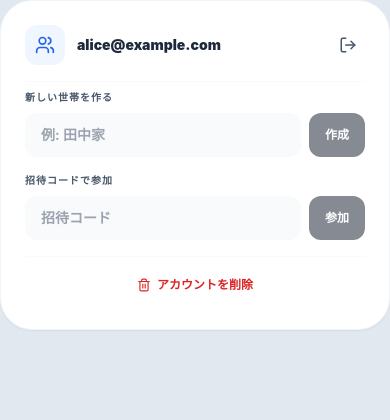
Test: AccountPanel (subscription paywall) › falls back to the paywall when a create attempt fails with SUBSCRIPTION_REQUIRED, even if the cached status looked active
The image size is (390, 420).
Type "テスト家族" into the field with placeholder "例: 田中家".
click(163, 135); type("テスト家族")  # box [25,113,301,157]
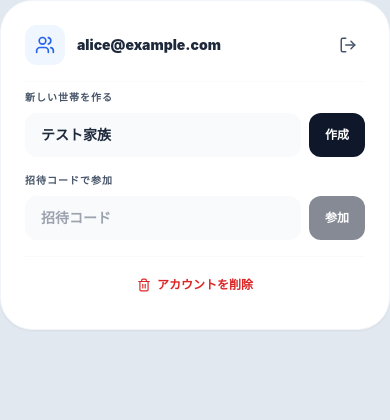
Click the button "作成".
click(337, 135)  # box [309,113,365,157]
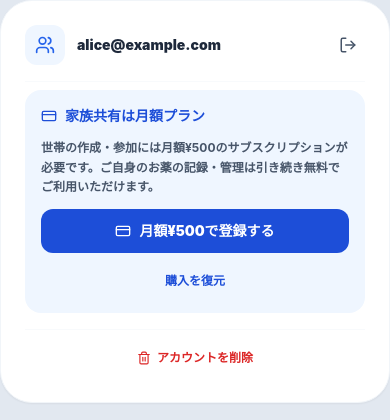
Expected: the text "家族共有は月額プラン" is shown, [65,106,205,126]
